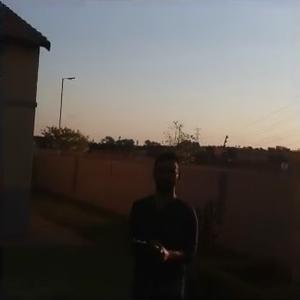follow: (119, 148, 200, 298)
